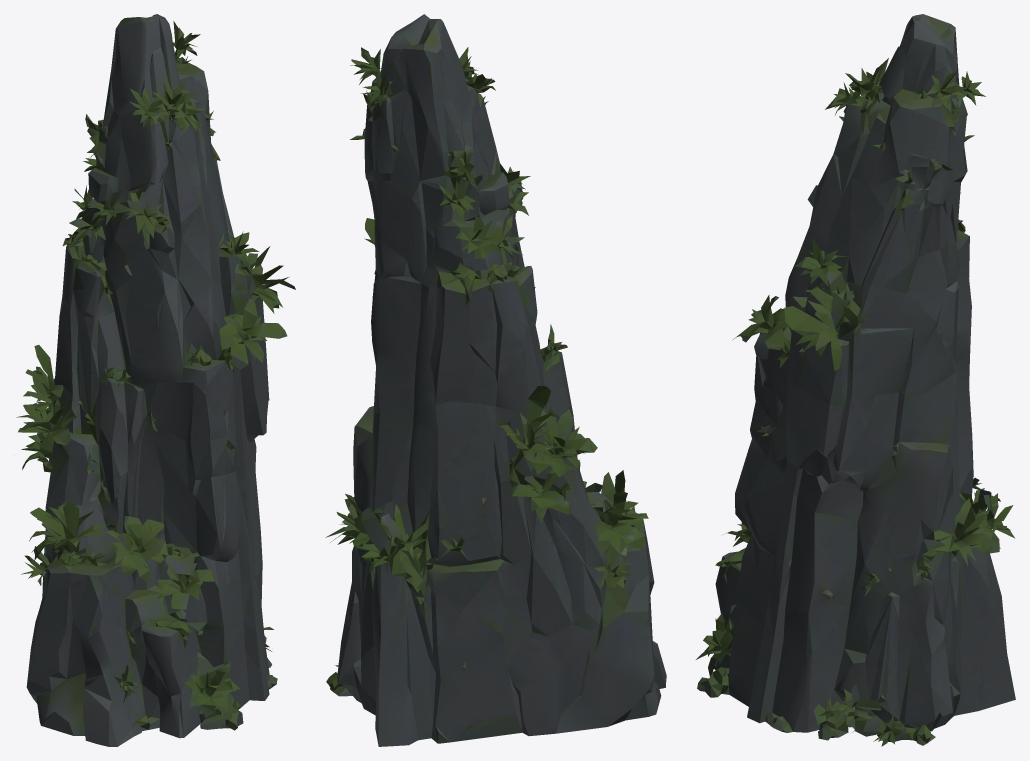
Rendered from scene_karst_tower.glb.
3 renders of one model, left to right at view 1: azimuth 30°, elevation 25°; view 2: azimuth 150°, elevation 25°; view 3: azimuth 270°, elevation 25°, orthographic. The views are drawn at different scales.
Bounding box in the file's own units: 0.8204 × 1.9 × 0.8107.
1 material, 1 textured.
